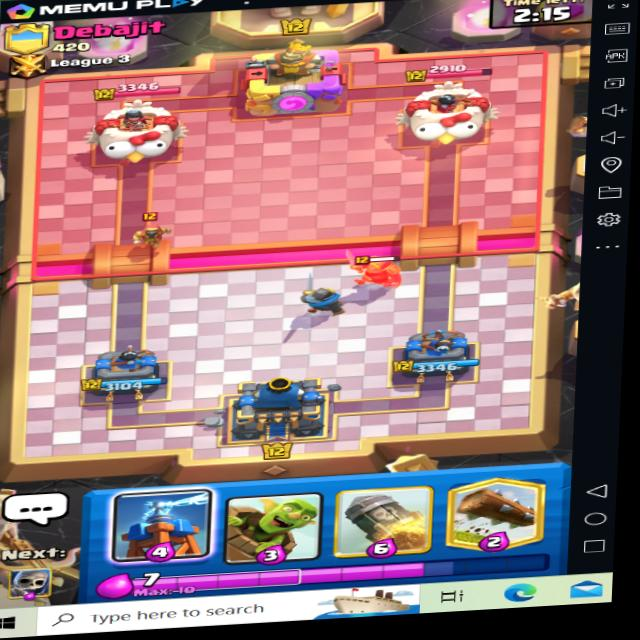knight: (332, 229, 421, 301)
wizard: (128, 205, 183, 257)
